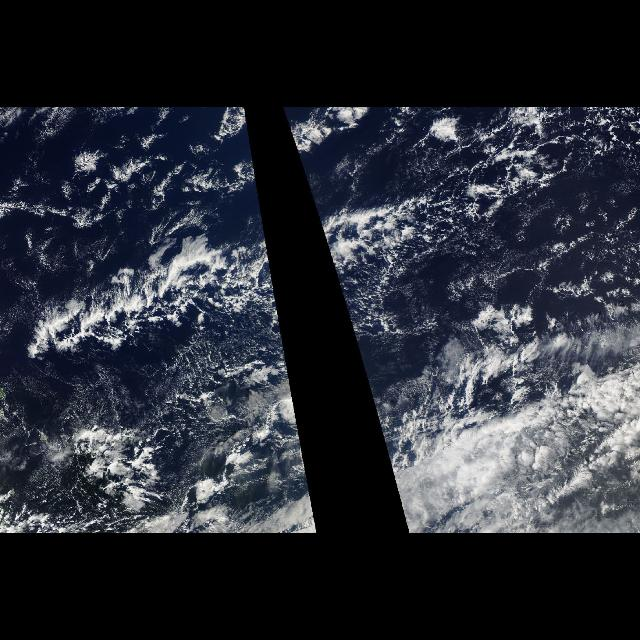Fish: (0, 162, 290, 380), (301, 162, 584, 380)
Gravel: (19, 388, 288, 532)
